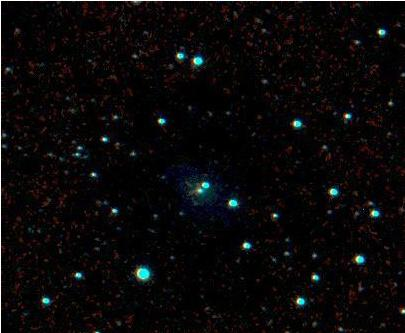star: (182, 168, 212, 198)
